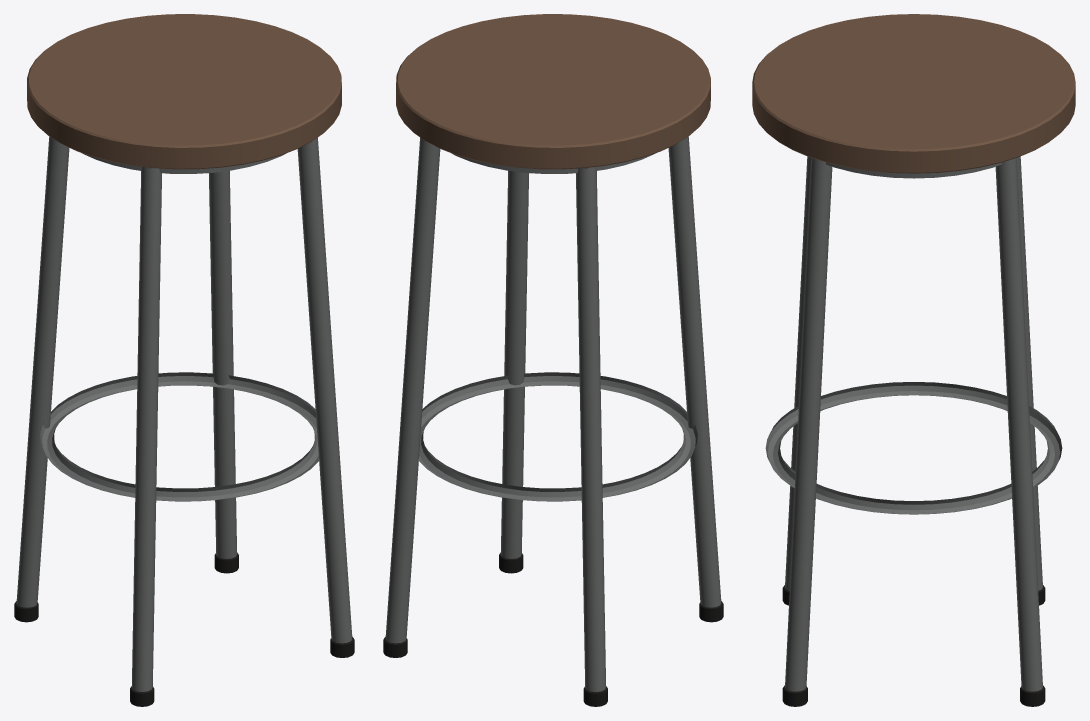
File: stool-tall-015ae0c53476.glb
3 views of the same model, side by side, from view 1: azimuth 30°, elevation 25°; view 2: azimuth 150°, elevation 25°; view 3: azimuth 270°, elevation 25° (orthographic). The views are drawn at different scales.
Visible parts, largest first — view 1: metal, wood, rubber-foot; view 2: metal, wood, rubber-foot; view 3: wood, metal, rubber-foot.
Part boxes in pixels (x1=…): metal: x1=16, y1=136, x2=352, y2=691; wood: x1=27, y1=14, x2=341, y2=169; rubber-foot: x1=14, y1=552, x2=354, y2=706; metal: x1=385, y1=136, x2=721, y2=691; wood: x1=396, y1=14, x2=710, y2=169; rubber-foot: x1=383, y1=552, x2=723, y2=706; wood: x1=752, y1=14, x2=1075, y2=173; metal: x1=765, y1=156, x2=1062, y2=691; rubber-foot: x1=782, y1=585, x2=1045, y2=706.
Bounding box in the file's own units: 0.36 × 0.7 × 0.36.
